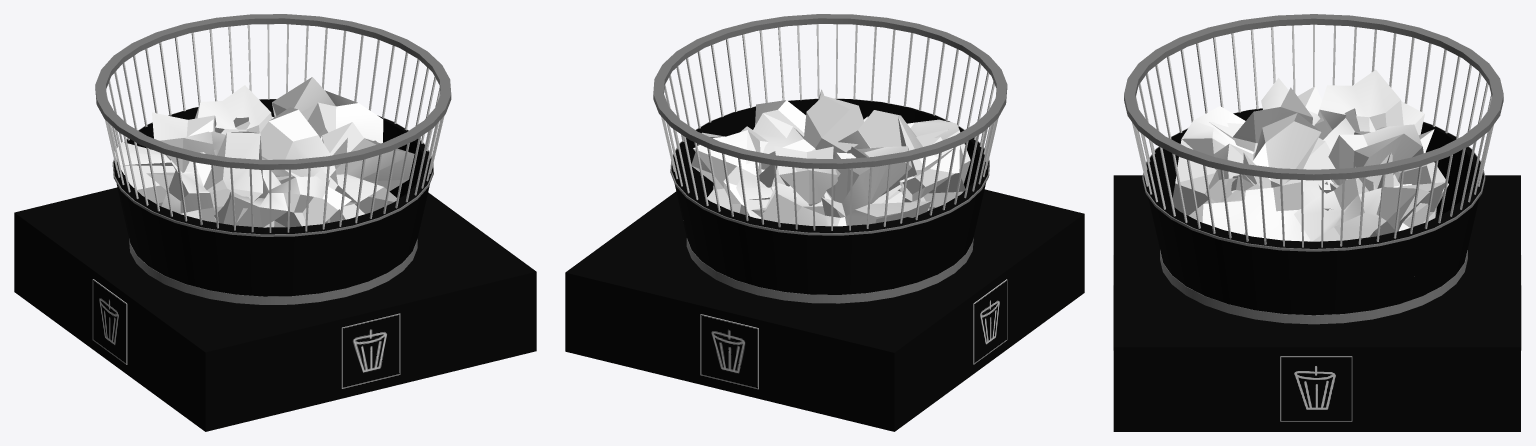
The model's file is Poubellisator.fbx.
The picture shows the model from 3 angles, left to right: view 1: azimuth 30°, elevation 25°; view 2: azimuth 150°, elevation 25°; view 3: azimuth 270°, elevation 25°; orthographic projection. The views are drawn at different scales.
Visible parts, largest first — view 1: BaseLogos, Poubelle, Papiers; view 2: BaseLogos, Poubelle, Papiers; view 3: BaseLogos, Poubelle, Papiers.
Boxes of the visible parts, left/top/right/bottom form: BaseLogos: left=14, top=187, right=536, bottom=431; Poubelle: left=95, top=14, right=451, bottom=304; Papiers: left=114, top=77, right=414, bottom=227; BaseLogos: left=565, top=189, right=1084, bottom=431; Poubelle: left=653, top=14, right=1007, bottom=303; Papiers: left=683, top=89, right=970, bottom=226; BaseLogos: left=1113, top=175, right=1521, bottom=431; Poubelle: left=1124, top=14, right=1503, bottom=324; Papiers: left=1172, top=70, right=1448, bottom=241.
Bounding box in the file's own units: 159 × 159 × 107.
